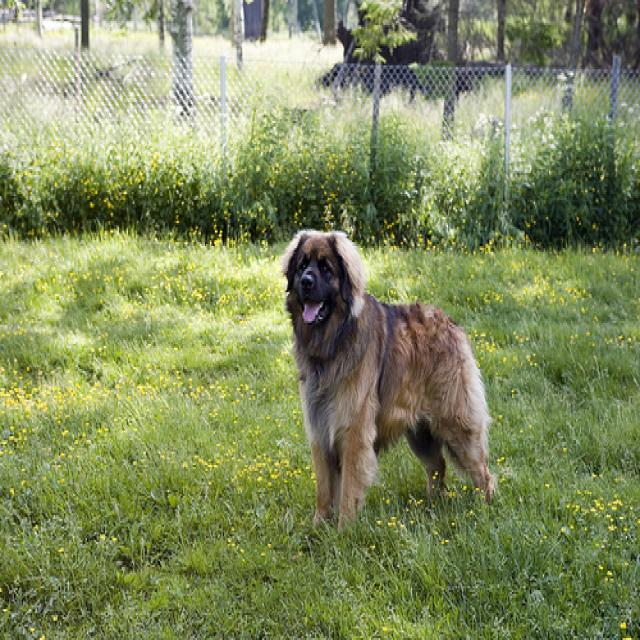dog-leonberger: (273, 213, 502, 552)
